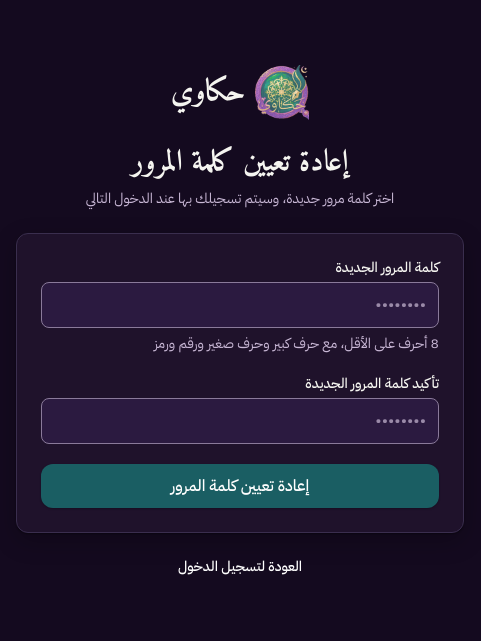
Test: reset password page › rejects a link without a token
In the password field labelled "كلمة المرور الجديدة": (240, 305) [41,282,439,328], type "NewSecurePass123!"
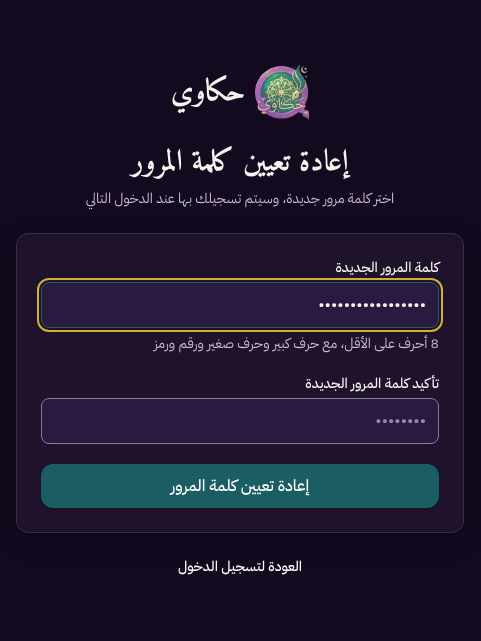
In the password field labelled "تأكيد كلمة المرور الجديدة": (240, 421) [41,398,439,444], type "NewSecurePass123!"
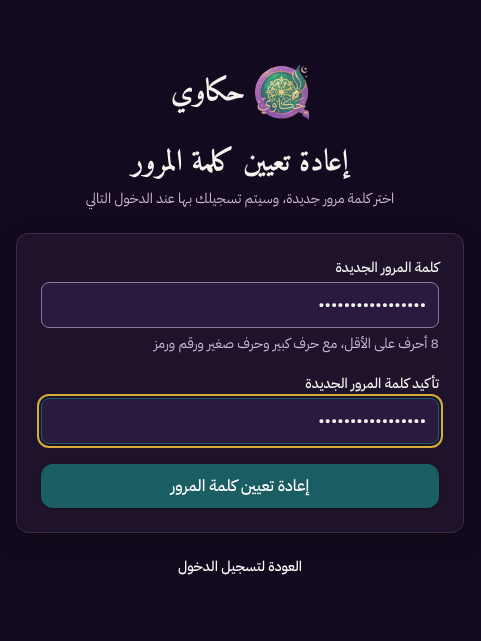
Click the button "إعادة تعيين كلمة المرور": (240, 486) [41,464,439,508]
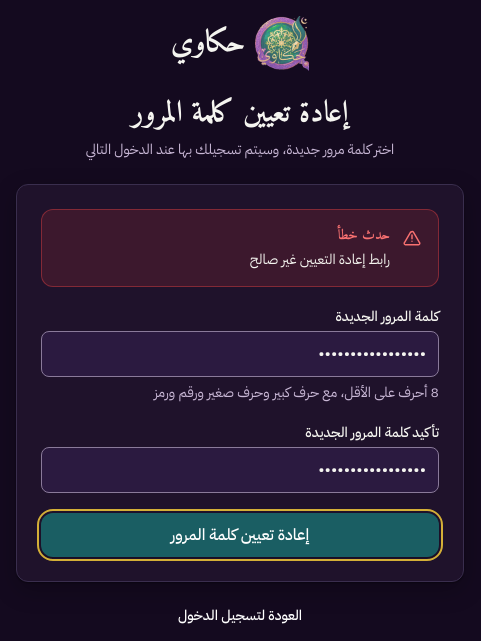
Now the text "رابط إعادة التعيين غير صالح" is shown, box [250,249,390,270]
